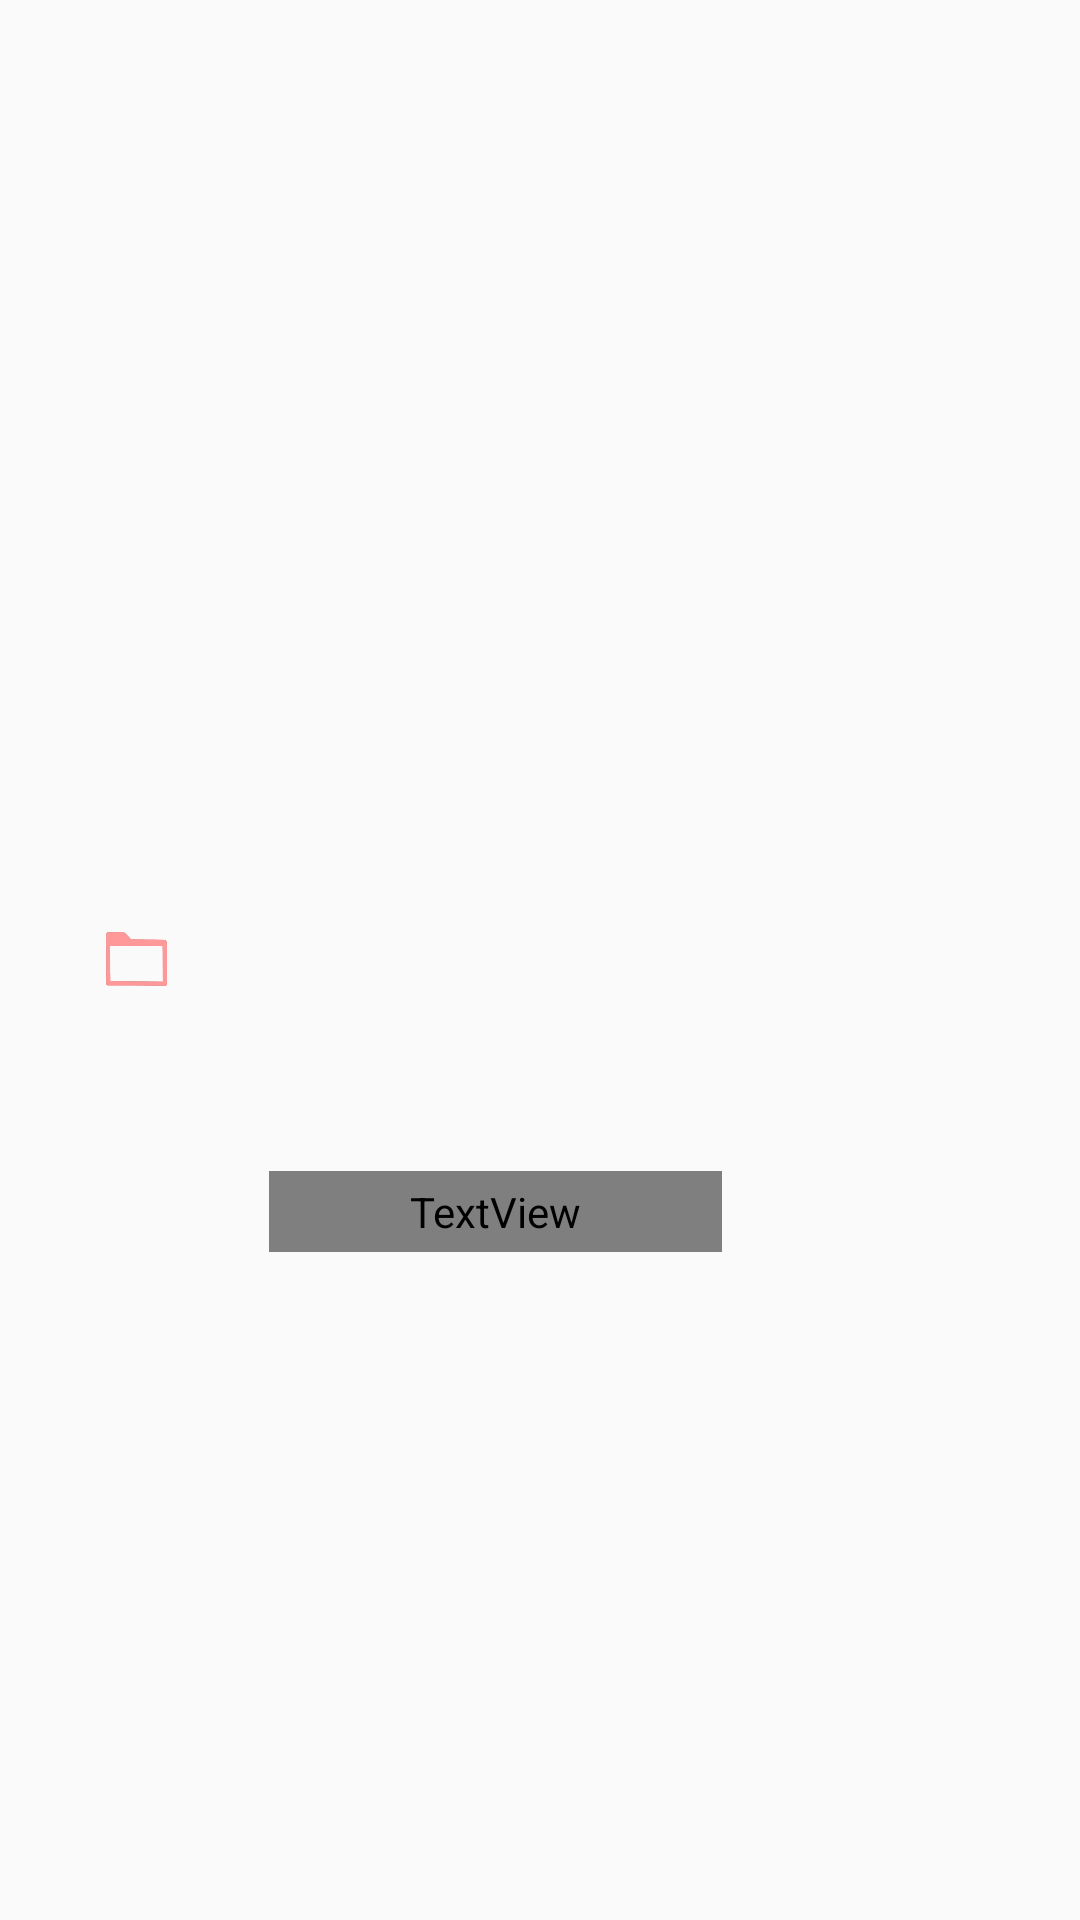

Locate icon controls on the screen. Image size 1080 × 1920, boxes as (x1, y1, x2, y2).
folder: (106, 932, 167, 986)
